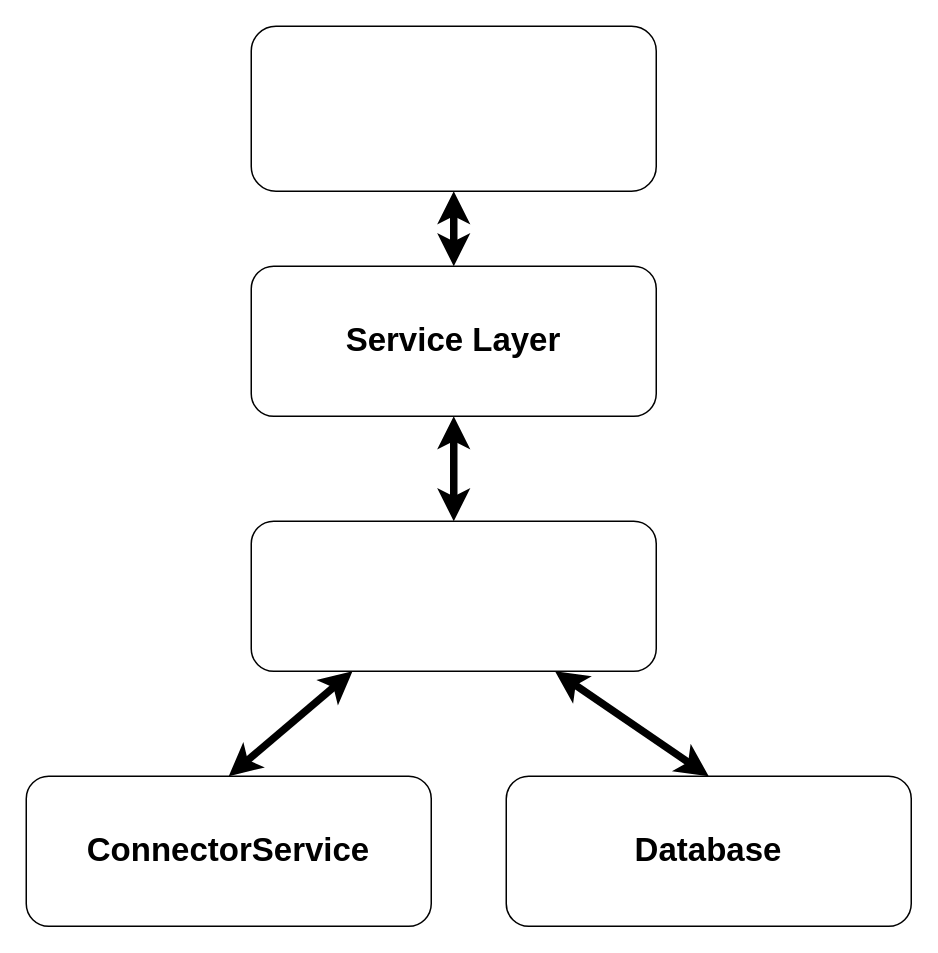
This 938x953 diagram has some shape labels left out. The shapes that lost their labels are listed below. From the top down, each one's box as (x1, y1, x2, y2) in pixels, then its label:
(250, 25, 656, 191): Route Blueprint Code
(250, 520, 656, 671): CronService
